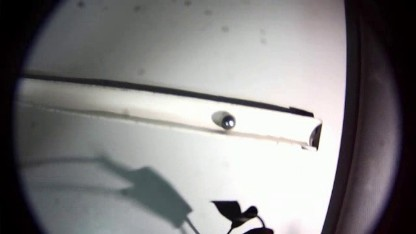gangzhu: (220, 113, 234, 129)
